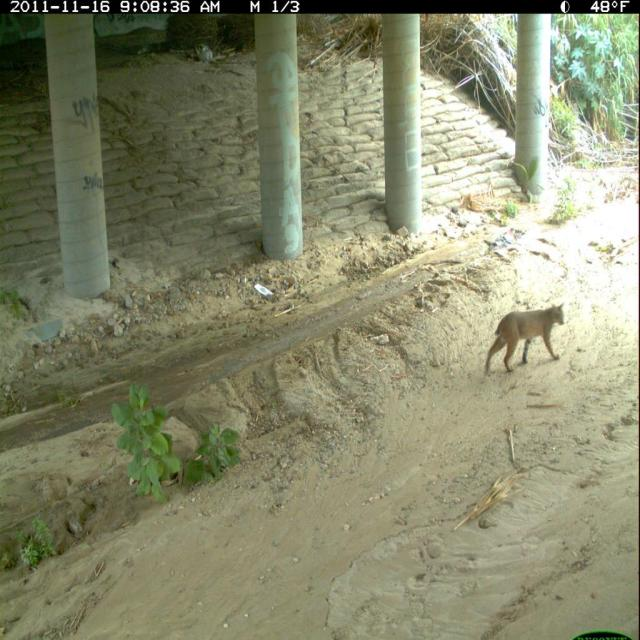bobcat: (480, 298, 570, 380)
